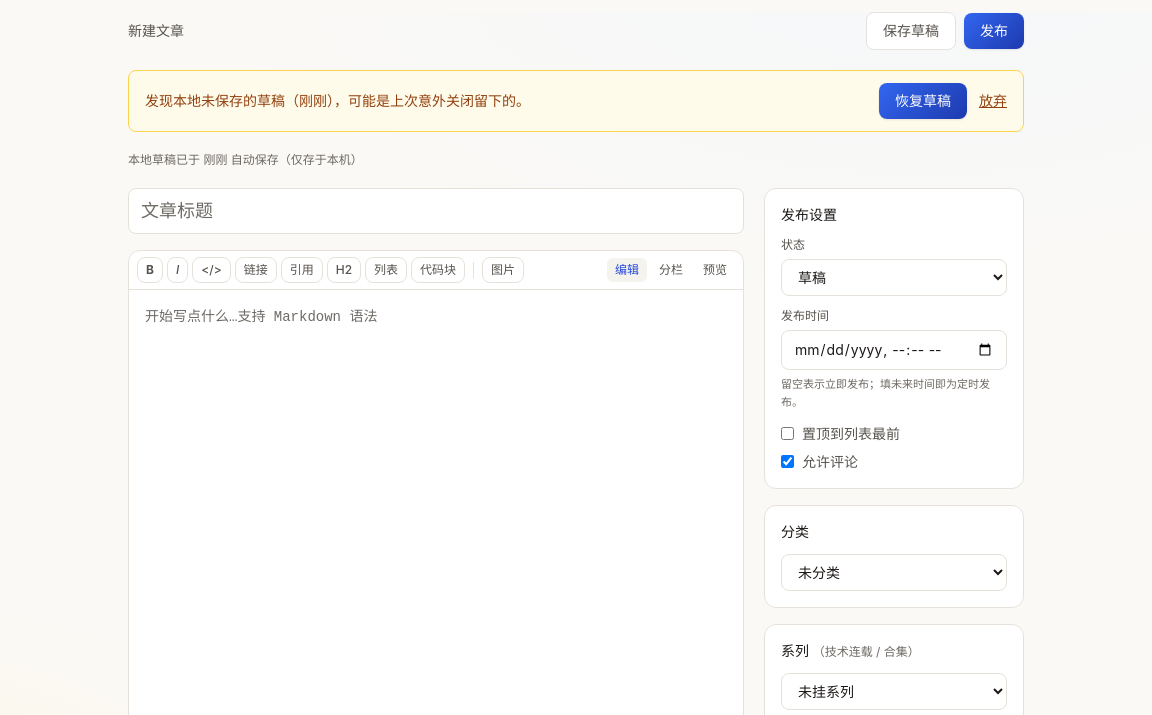
it: ArticleEditView · 本地草稿 › 点「放弃」清掉本地草稿，表单保持空白（下次进来不再被问一次）
Click the button "放弃" at (993, 101), box [979, 91, 1007, 111]
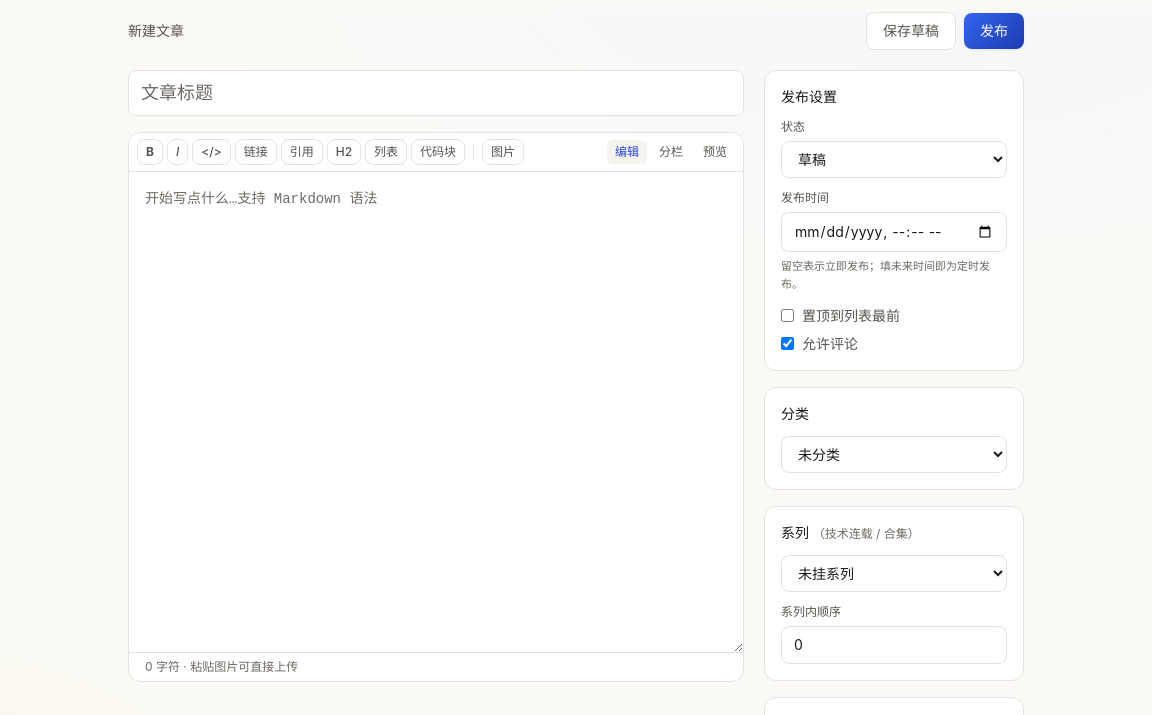
Now the text "发现本地未保存的草稿" is gone
